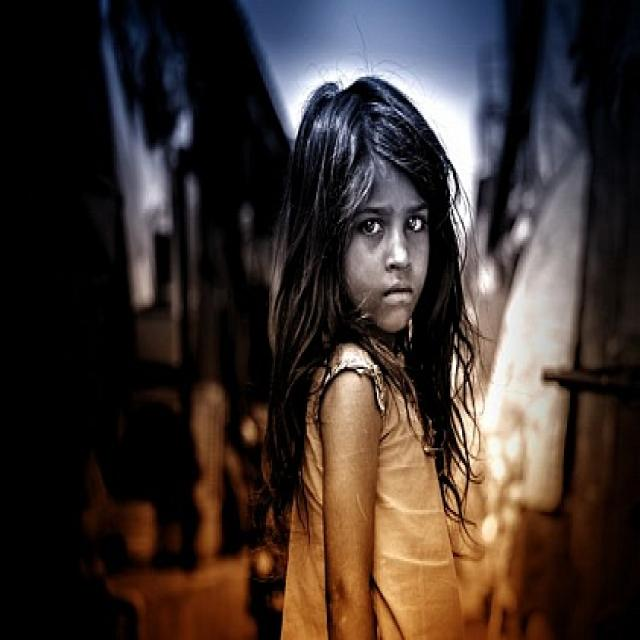Eyes: (348, 207, 430, 240)
